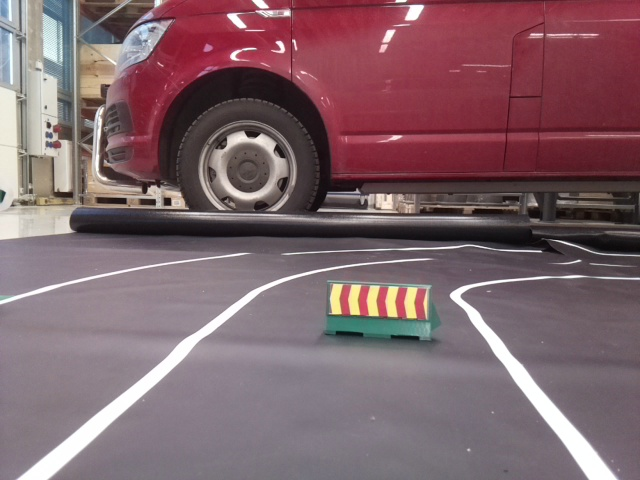ClosedRoadStand: (327, 281, 430, 338)
